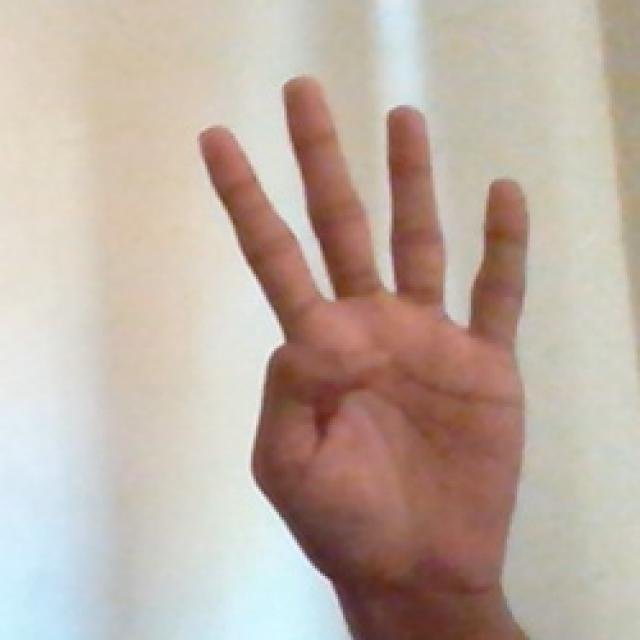Numeric-4: (193, 65, 534, 612)
